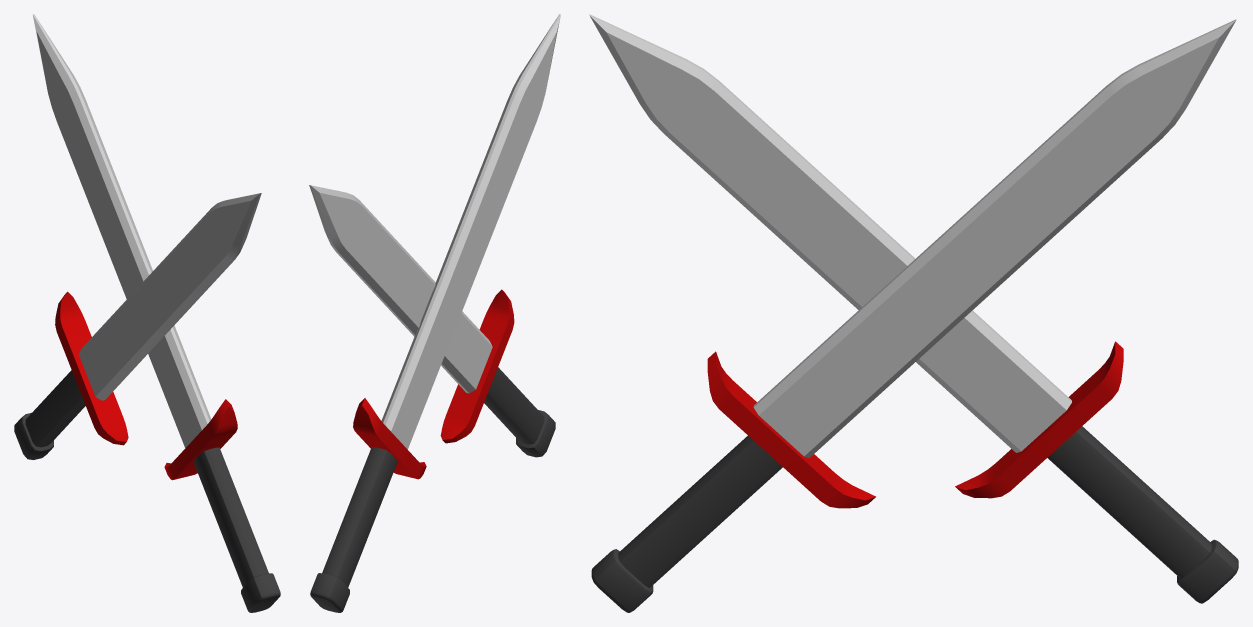
The model's file is CombatNormal.fbx.
3 views of the same model, side by side, from view 1: azimuth 30°, elevation 25°; view 2: azimuth 150°, elevation 25°; view 3: azimuth 270°, elevation 25° (orthographic). The views are drawn at different scales.
Parts seen in each view (by area): view 1: CombatNormal; view 2: CombatNormal; view 3: CombatNormal.
Part boxes in pixels (box(x1,y1,x2,y2)): CombatNormal: box(14, 14, 280, 612); CombatNormal: box(309, 14, 560, 612); CombatNormal: box(589, 14, 1238, 612).
Bounding box in the file's own units: 13.01 × 153 × 153.
